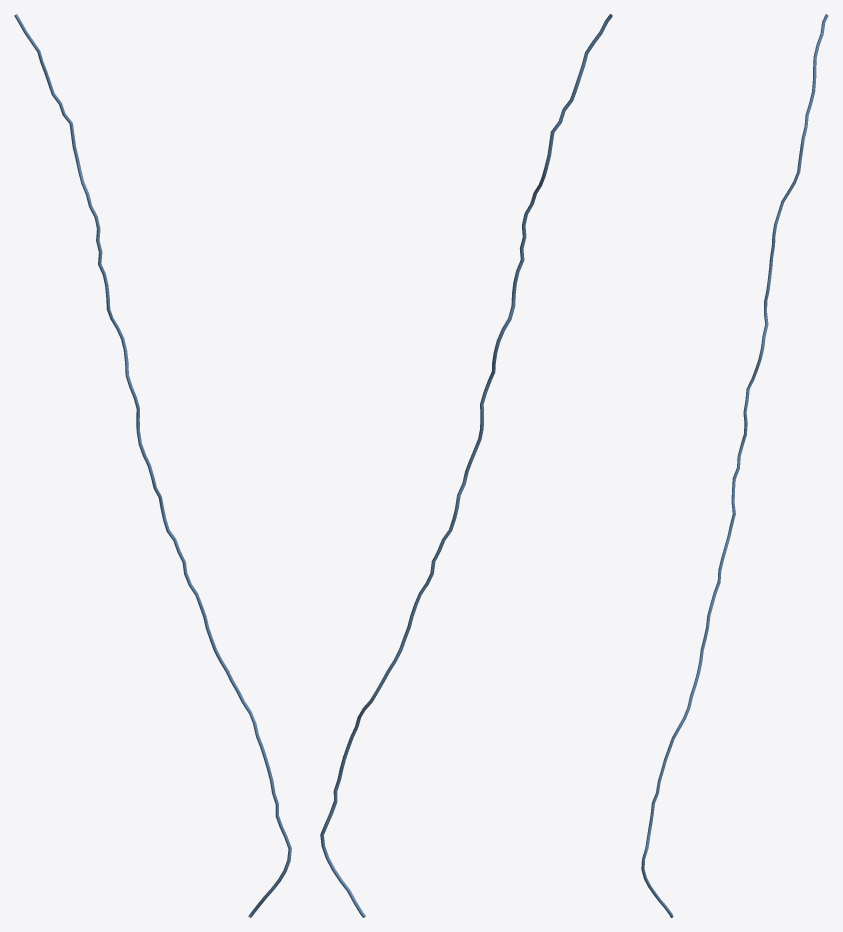
The model's file is sweep288.fbx.
The picture shows the model from 3 angles, left to right: view 1: azimuth 30°, elevation 25°; view 2: azimuth 210°, elevation 25°; view 3: azimuth 270°, elevation 25°; orthographic projection. The views are drawn at different scales.
Visible parts, largest first — view 1: sweep288; view 2: sweep288; view 3: sweep288.
Part boxes in pixels (x1,y1,x2,y2): sweep288: (14, 14, 291, 917); sweep288: (320, 14, 612, 917); sweep288: (641, 14, 828, 917).
Size of the model in its own units: 1.17 by 5.46 by 1.11.
